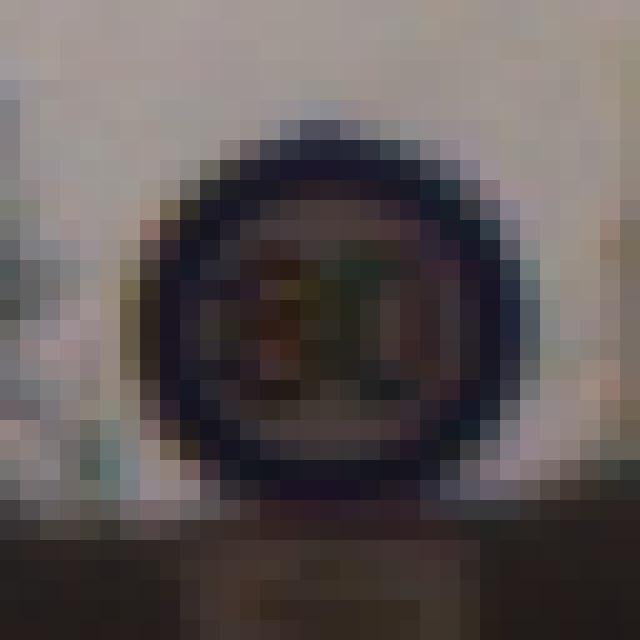SPEED-LIMIT-80: (140, 132, 526, 502)
